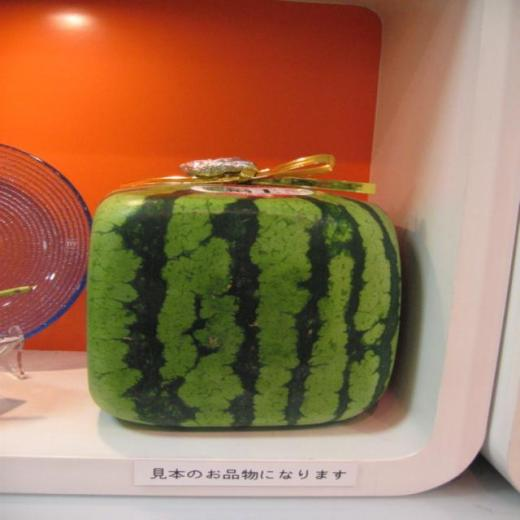Cherry: (85, 190, 402, 428)
